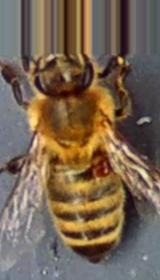varroa_mite: (74, 150, 120, 180)
